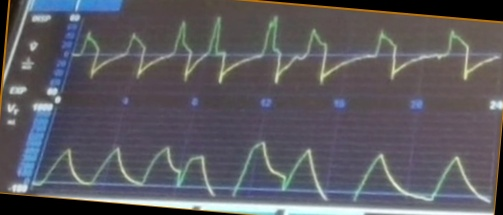Double_Triggering Flow: (81, 13, 400, 89)
Double_Triggering Volume: (51, 130, 439, 199)
